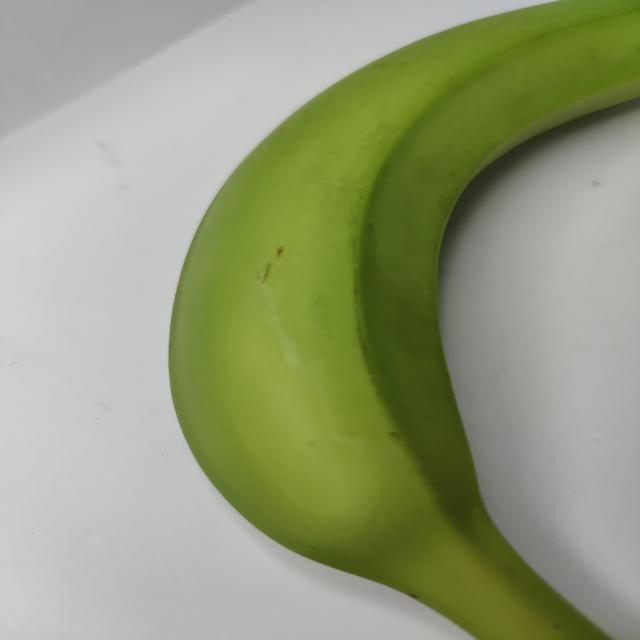raw: (104, 0, 640, 635)
